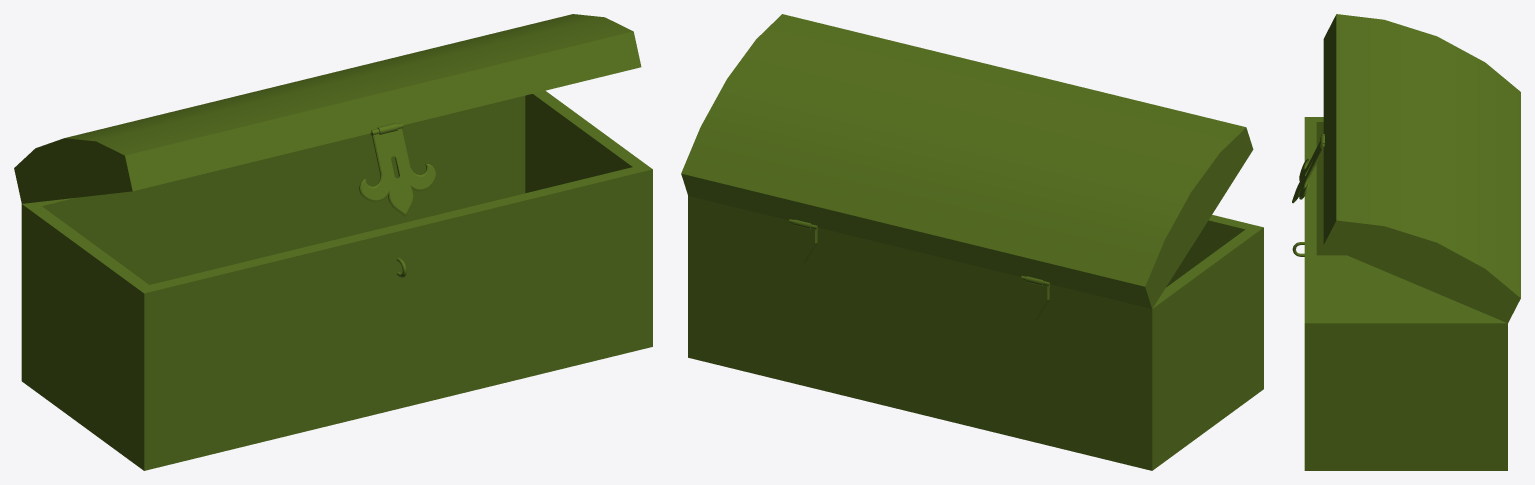
File: uploads_files_1937569_Chest.FBX
3 renders of one model, left to right at view 1: azimuth 30°, elevation 25°; view 2: azimuth 150°, elevation 25°; view 3: azimuth 270°, elevation 25°, orthographic. The views are drawn at different scales.
Parts seen in each view (by area): view 1: Chest002, Chest_Cover001, Chest_Lock_Flap001; view 2: Chest_Cover001, Chest002; view 3: Chest_Cover001, Chest002, Chest_Lock_Flap001.
Part boxes in pixels (x1,y1,x2,y2): Chest002: (21, 90, 652, 470); Chest_Cover001: (14, 14, 641, 203); Chest_Lock_Flap001: (359, 123, 435, 216); Chest_Cover001: (681, 14, 1253, 308); Chest002: (688, 196, 1263, 470); Chest_Cover001: (1323, 14, 1520, 323); Chest002: (1292, 117, 1507, 470); Chest_Lock_Flap001: (1292, 134, 1324, 203).
Bounding box in the file's own units: 120 × 67.91 × 56.22.
